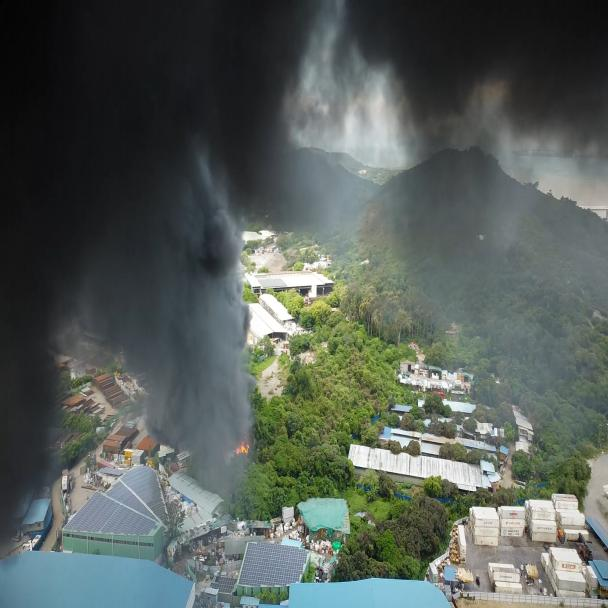smoke: (0, 0, 608, 526)
